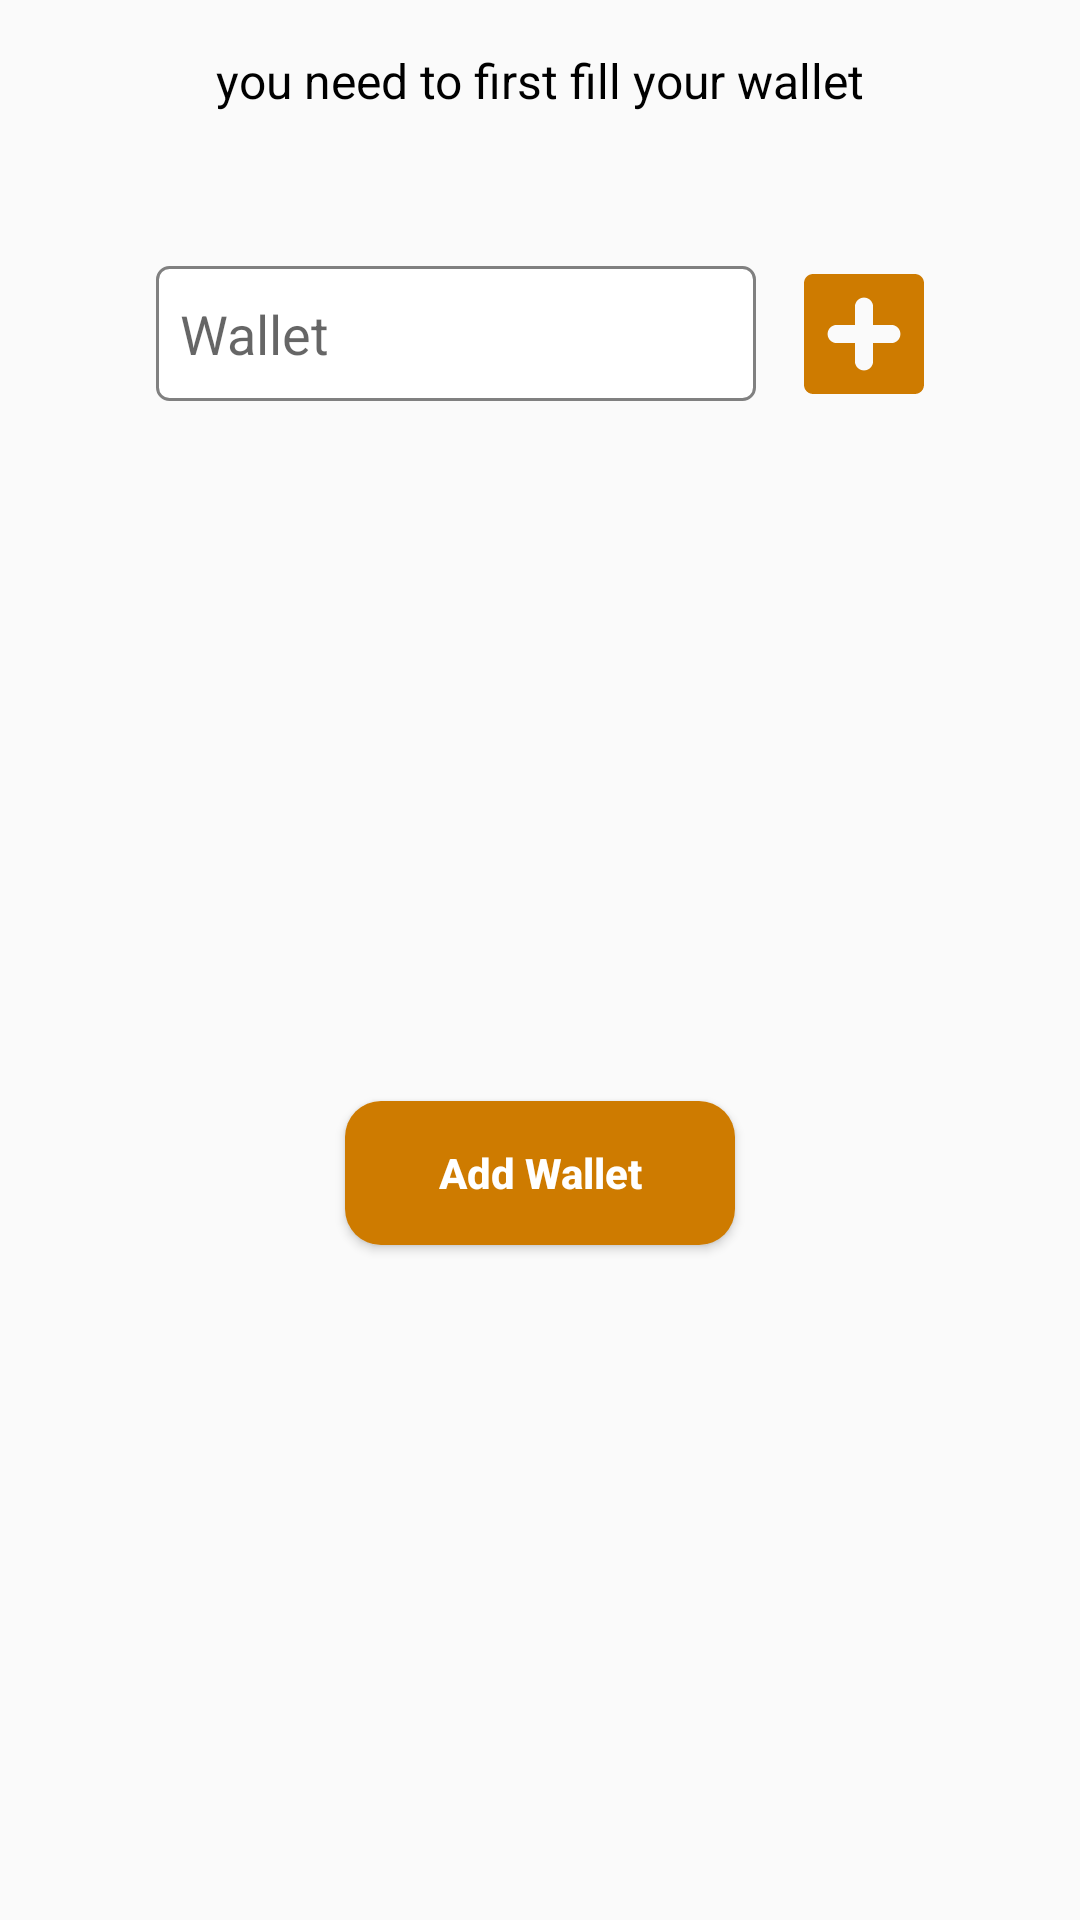

Point at icon controls on the screen. Image size 1080x1920, points as (x=x, y=y).
plus: (x=864, y=334)
